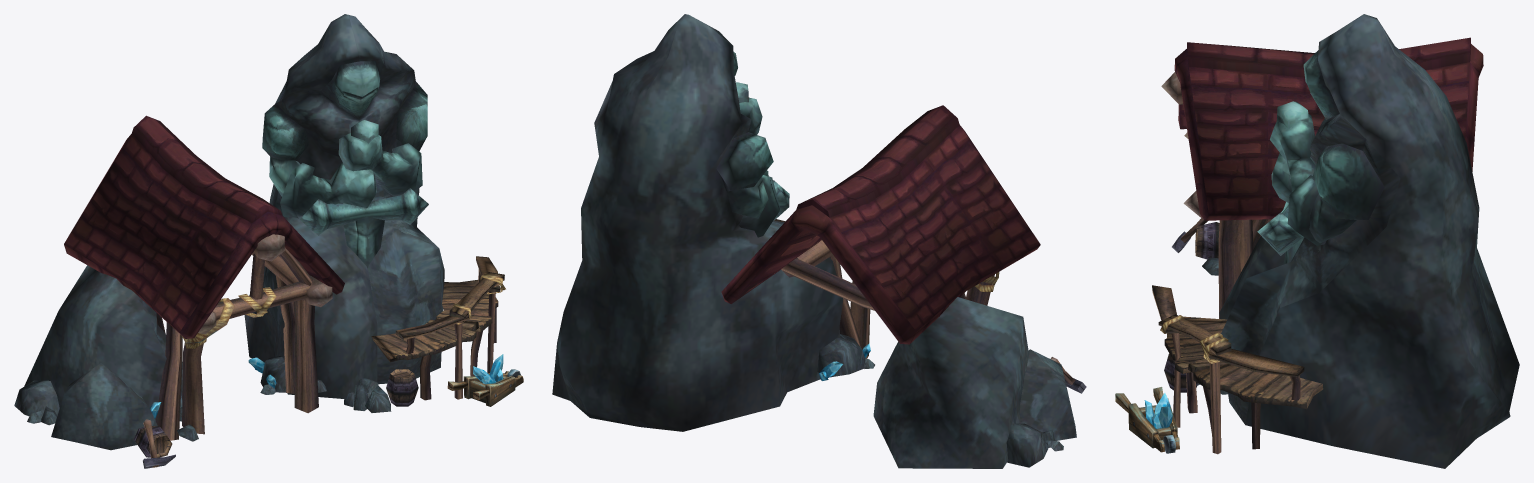
File: building_lower_mine_entrance.fbx
The picture shows the model from 3 angles, left to right: view 1: azimuth 30°, elevation 25°; view 2: azimuth 150°, elevation 25°; view 3: azimuth 270°, elevation 25°; orthographic projection. The views are drawn at different scales.
Visible parts, largest first — view 1: building_lower_mine_entrance-0; view 2: building_lower_mine_entrance-0; view 3: building_lower_mine_entrance-0.
Part boxes in pixels (x1,y1,x2,y2): building_lower_mine_entrance-0: [14, 14, 523, 468]; building_lower_mine_entrance-0: [552, 14, 1086, 468]; building_lower_mine_entrance-0: [1115, 14, 1519, 468].
Bounding box in the file's own units: 13.12 × 9.64 × 8.79.
